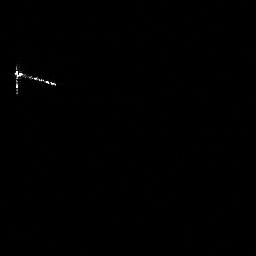ship: (10, 62, 58, 97)
